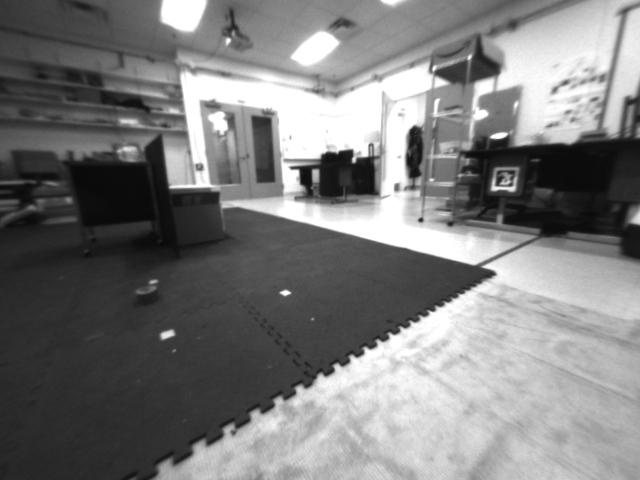dogtoy: (124, 274, 164, 305)
